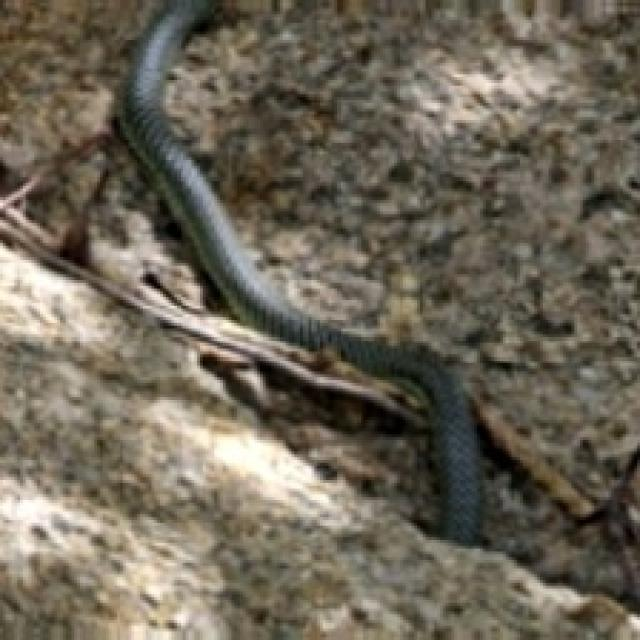paradise tree snake: (117, 0, 480, 543)
